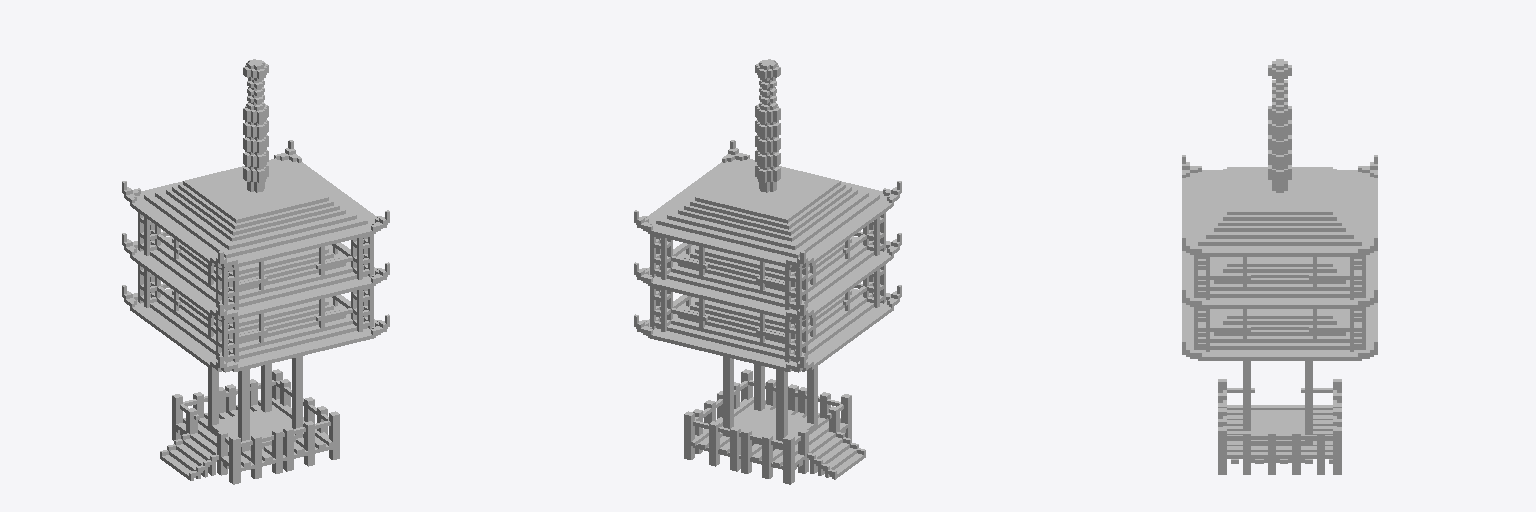
Rendered from miniTemple-0.obj.
3 renders of one model, left to right at view 1: azimuth 30°, elevation 25°; view 2: azimuth 150°, elevation 25°; view 3: azimuth 270°, elevation 25°, orthographic.
Parts seen in each view (by area): view 1: object 1; view 2: object 1; view 3: object 1.
Part boxes in pixels (x1,y1,x2,y2): object 1: (122, 59, 389, 484); object 1: (634, 59, 901, 484); object 1: (1182, 59, 1377, 474).
Size of the model in its own units: 4.8 by 10.4 by 4.8.